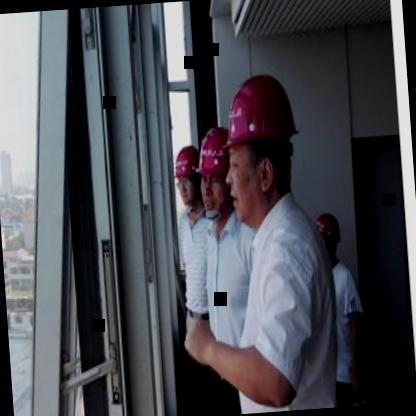helmet: (220, 66, 303, 225), (198, 133, 233, 216), (172, 142, 204, 214), (314, 207, 346, 266)
